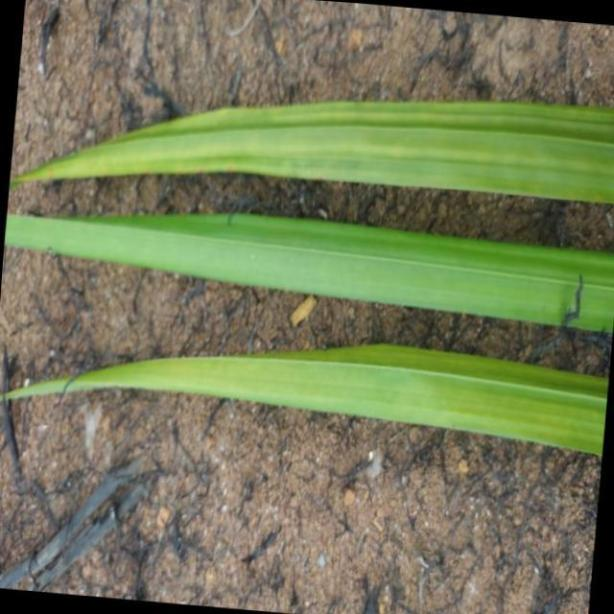nitrogen: (0, 205, 614, 332), (0, 337, 614, 454), (0, 96, 614, 203)
